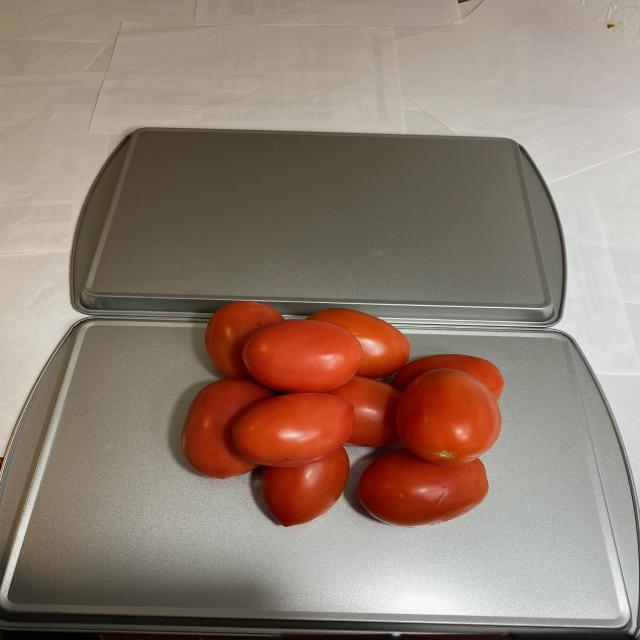tomato: (172, 298, 506, 533)
